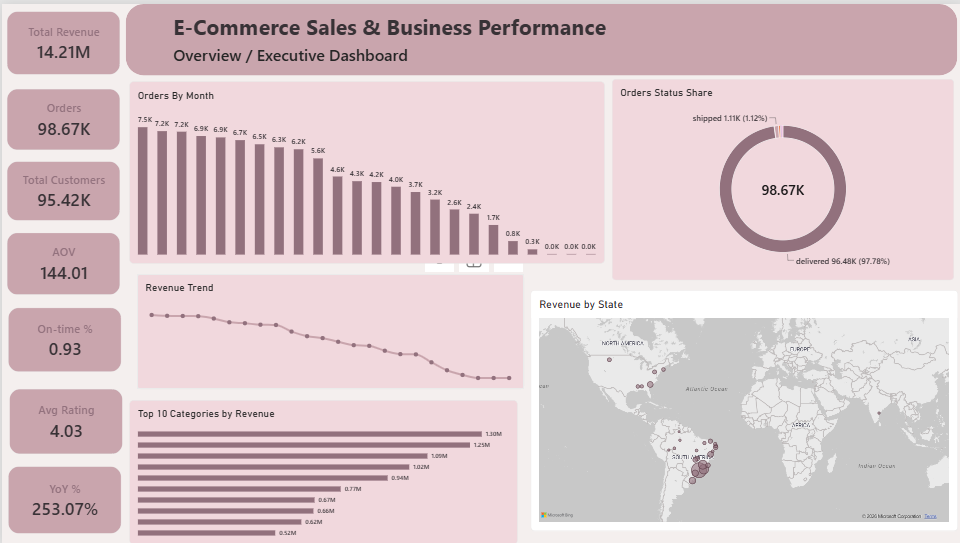

Layout of this report page (visuals, bound fields, positions):
{"tool":"powerbi","page":{"name":"OverView (Executive Dashborad)","canvas":[1920,1080],"ordinal":0},"visuals":[{"type":"cardVisual","title":"Total Orders","fields":{"Data":["public bi_fact_sales.Orders"]},"box":[10,170,226,122],"z":0},{"type":"cardVisual","title":"Total Customers","fields":{"Data":["public bi_fact_sales.Customers"]},"box":[10,314.5,226,118],"z":1000},{"type":"cardVisual","title":"AOV","fields":{"Data":["public bi_fact_sales.AOV"]},"box":[10.8,457.7,226.2,124.9],"z":2000},{"type":"cardVisual","title":"On Time %","fields":{"Data":["public bi_fact_sales.On-time %"]},"box":[12,608,226,128],"z":3000},{"type":"cardVisual","title":"Avg Rating","fields":{"Data":["public bi_fact_sales.Avg Rating"]},"box":[14,770,226,130],"z":4000},{"type":"cardVisual","title":"YOY %","fields":{"Data":["public bi_fact_sales.YoY %"]},"box":[12,924,226,134],"z":5000},{"type":"lineChart","title":"Revenue Trend","fields":{"Category":["DimDate.Year-Month"],"Y":["public bi_fact_sales.Revenue"]},"box":[270,540,774,230],"z":6000},{"type":"barChart","title":"Top 10 Categories by Revenue","fields":{"Category":["public bi_fact_sales.category"],"Y":["public bi_fact_sales.Revenue"]},"box":[256,792,776,288],"z":7000},{"type":"clusteredColumnChart","title":"Orders By Month","fields":{"Category":["DimDate.Year-Month"],"Y":["public bi_fact_sales.Orders"]},"box":[256,156,950,364],"z":8000},{"type":"map","title":"Revenue by State","fields":{"Category":["public bi_fact_sales.customer_state"],"Size":["public bi_fact_sales.Revenue"]},"box":[1058.7,571.9,854.2,481.4],"z":9000},{"type":"donutChart","title":"Orders Status Share","fields":{"Category":["public bi_fact_sales.order_status"],"Y":["public bi_fact_sales.Orders"]},"box":[1220,150,684,402],"z":10000},{"type":"shape","box":[248,0,1663.1,143],"z":11000,"group":"g1"},{"type":"cardVisual","fields":{"Data":["public bi_fact_sales.Revenue"]},"box":[10.5,16,226,126],"z":12000},{"type":"textbox","box":[344,16,946,64],"z":13000,"group":"g1"},{"type":"textbox","box":[344,80,520,48],"z":14000,"group":"g1"},{"type":"group","id":"g1","title":"Group 1","box":[248,0,1663.1,143],"z":14001}]}

Visuals, with their boxes in screenshot pixels (x1, y1, x2, y2), scaled from the page's 1920x1080 canvas onto the 960x543 screenshot:
"Total Orders" cardVisual: [5,85,118,147]
"Total Customers" cardVisual: [5,158,118,217]
"AOV" cardVisual: [5,230,118,293]
"On Time %" cardVisual: [6,306,119,370]
"Avg Rating" cardVisual: [7,387,120,452]
"YOY %" cardVisual: [6,465,119,532]
"Revenue Trend" lineChart: [135,272,522,387]
"Top 10 Categories by Revenue" barChart: [128,398,516,542]
"Orders By Month" clusteredColumnChart: [128,78,603,261]
"Revenue by State" map: [529,288,956,530]
"Orders Status Share" donutChart: [610,75,952,278]
shape: [124,0,956,72]
cardVisual - public bi_fact_sales.Revenue: [5,8,118,71]
textbox: [172,8,645,40]
textbox: [172,40,432,64]
"Group 1" group: [124,0,956,72]
